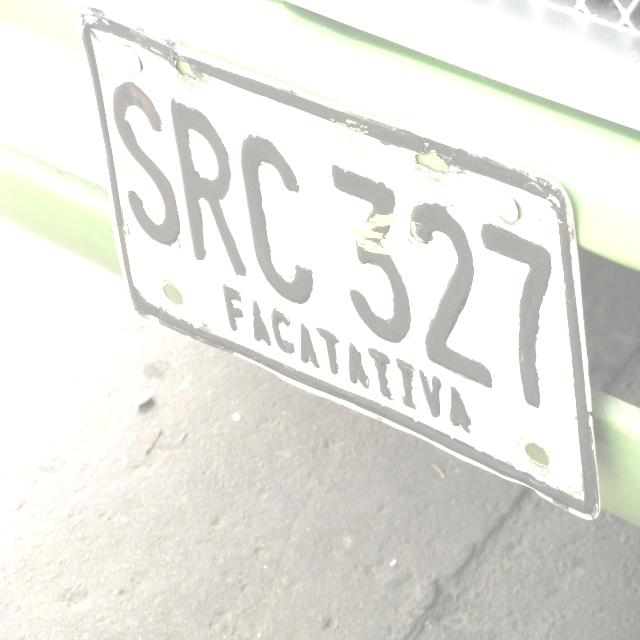placa: (75, 3, 602, 522)
